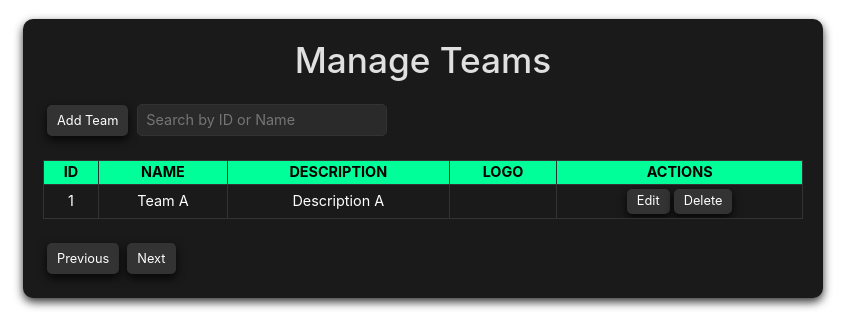
Test: TeamsAdmin Component › deletes a team when delete is confirmed
What coordinates should you click on to do the following:
click the button "Delete"
I would click on:
 (703, 201)
Its box is [674,189,732,214].
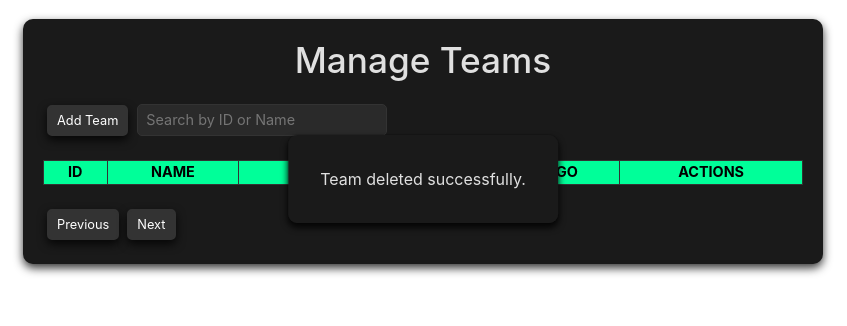
Expected: the text "Team A" is gone
